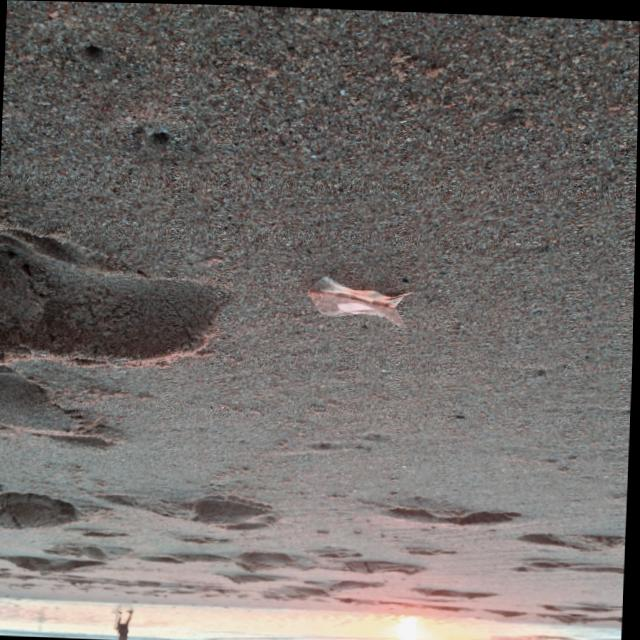Plastic: (305, 272, 417, 328)
